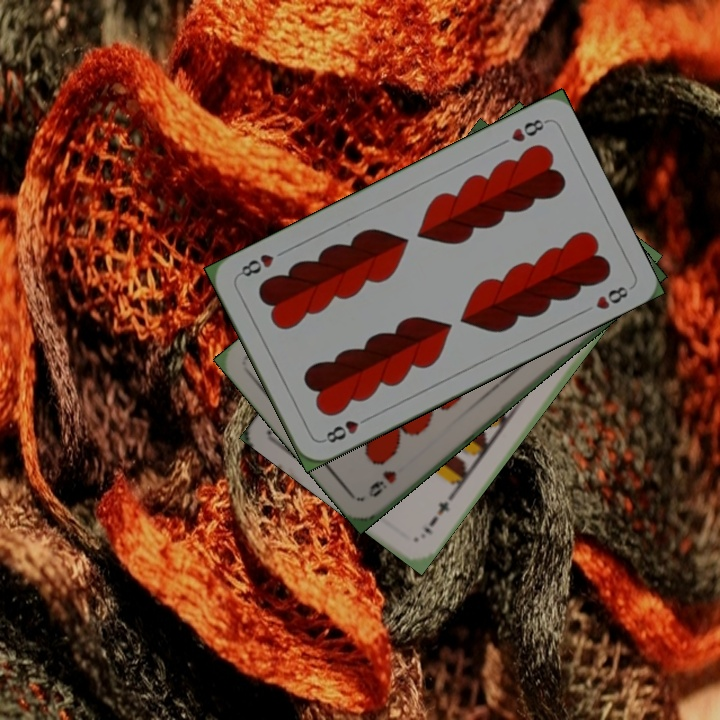E7: (418, 490, 456, 537)
H8: (318, 412, 373, 446), (507, 115, 549, 145)
H9: (364, 466, 400, 500)
